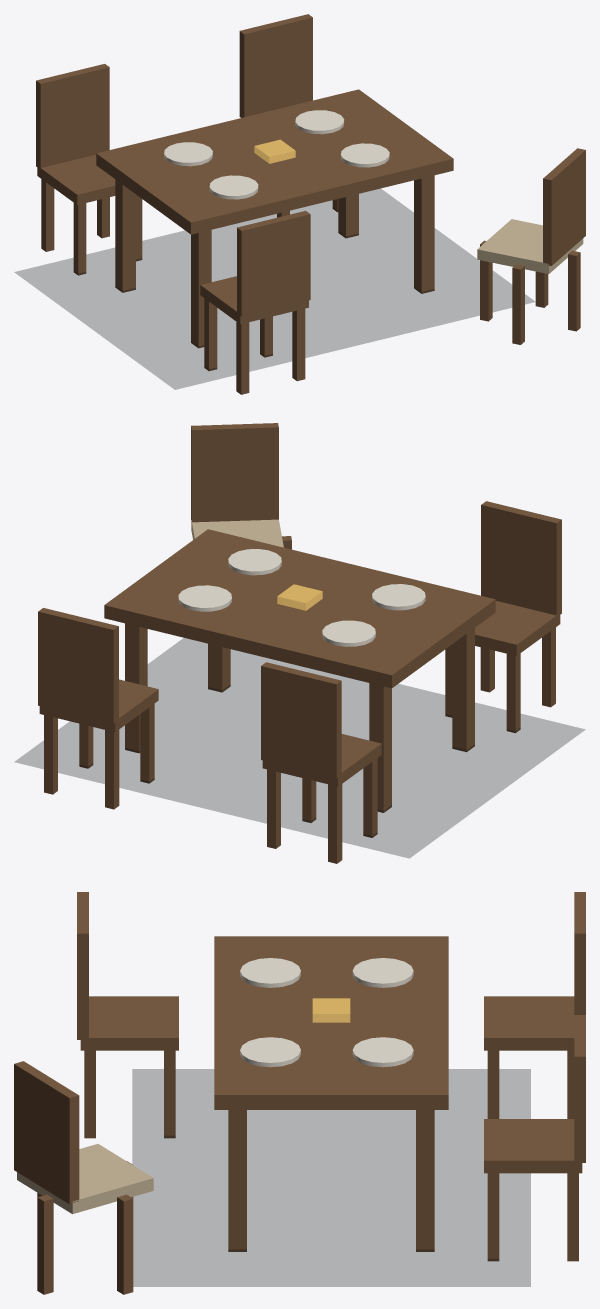
The model's file is hp_room_rm_home_family_table.glb.
3 views of the same model, one above another, from view 1: azimuth 30°, elevation 25°; view 2: azimuth 150°, elevation 25°; view 3: azimuth 270°, elevation 25° (orthographic). The views are drawn at different scales.
Parts seen in each view (by area): view 1: contact_shadow, table_top, chair_back_-0.62_0.86, chair_back_-0.62_-0.86, chair_back_0.62_-0.86, chair_back_0.95_1.05, chair_seat_0.95_1.05, chair_seat_-0.62_-0.86, table_leg_0.68_0.4, table_leg_-0.68_-0.4, table_leg_-0.68_0.4, chair_seat_-0.62_0.86 (+16 smaller); view 2: contact_shadow, table_top, chair_back_0.95_1.05, chair_back_-0.62_-0.86, chair_back_0.62_-0.86, chair_back_-0.62_0.86, chair_seat_-0.62_0.86, table_leg_-0.68_0.4, table_leg_-0.68_-0.4, chair_seat_-0.62_-0.86, chair_seat_0.62_-0.86, table_leg_0.68_-0.4 (+19 smaller); view 3: contact_shadow, table_top, chair_back_0.95_1.05, chair_seat_0.62_-0.86, chair_seat_-0.62_0.86, chair_seat_-0.62_-0.86, chair_seat_0.95_1.05, table_leg_0.68_-0.4, table_leg_0.68_0.4, chair_back_0.62_-0.86, chair_back_-0.62_0.86, chair_leg_0.95_1.05_0.17_0.17 (+13 smaller).
Boxes of the visible parts, <box> form: contact_shadow: <box>14,189,534,389</box>; table_top: <box>96,89,453,234</box>; chair_back_-0.62_0.86: <box>237,210,310,316</box>; chair_back_-0.62_-0.86: <box>36,64,109,167</box>; chair_back_0.62_-0.86: <box>239,14,312,117</box>; chair_back_0.95_1.05: <box>543,148,585,265</box>; chair_seat_0.95_1.05: <box>477,219,583,273</box>; chair_seat_-0.62_-0.86: <box>37,154,115,204</box>; table_leg_0.68_0.4: <box>414,175,434,293</box>; table_leg_-0.68_-0.4: <box>115,179,135,292</box>; table_leg_-0.68_0.4: <box>191,230,211,348</box>; chair_seat_-0.62_0.86: <box>200,276,308,324</box>; contact_shadow: <box>15,638,585,858</box>; table_top: <box>104,529,495,688</box>; chair_back_0.95_1.05: <box>191,423,278,522</box>; chair_back_-0.62_-0.86: <box>261,662,341,778</box>; chair_back_0.62_-0.86: <box>38,608,118,723</box>; chair_back_-0.62_0.86: <box>481,501,561,615</box>; chair_seat_-0.62_0.86: <box>475,601,560,655</box>; table_leg_-0.68_0.4: <box>452,628,474,752</box>; table_leg_-0.68_-0.4: <box>369,683,391,812</box>; chair_seat_-0.62_-0.86: <box>262,734,381,786</box>; chair_seat_0.62_-0.86: <box>39,679,158,732</box>; table_leg_0.68_-0.4: <box>125,623,147,753</box>; contact_shadow: <box>132,1069,530,1286</box>; table_top: <box>214,936,448,1109</box>; chair_back_0.95_1.05: <box>14,1061,79,1204</box>; chair_seat_0.62_-0.86: <box>484,1119,582,1173</box>; chair_seat_-0.62_0.86: <box>80,996,178,1050</box>; chair_seat_-0.62_-0.86: <box>484,996,574,1050</box>; chair_seat_0.95_1.05: <box>17,1144,153,1214</box>; table_leg_0.68_-0.4: <box>416,1110,434,1251</box>; table_leg_0.68_0.4: <box>228,1110,246,1251</box>; chair_back_0.62_-0.86: <box>574,1015,585,1162</box>; chair_back_-0.62_0.86: <box>77,892,88,1039</box>; chair_leg_0.95_1.05_0.17_0.17: <box>37,1194,53,1294</box>.
Size of the model in its own units: 2.35 by 0.97 by 2.44.
